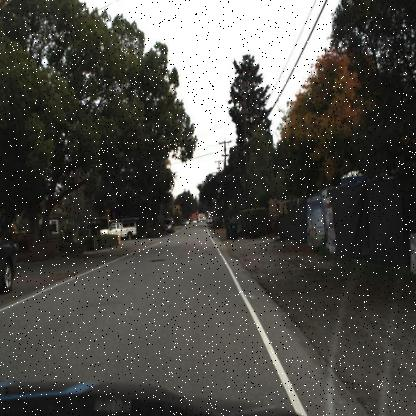car: (0, 228, 21, 294), (98, 218, 138, 241), (162, 216, 176, 235)
